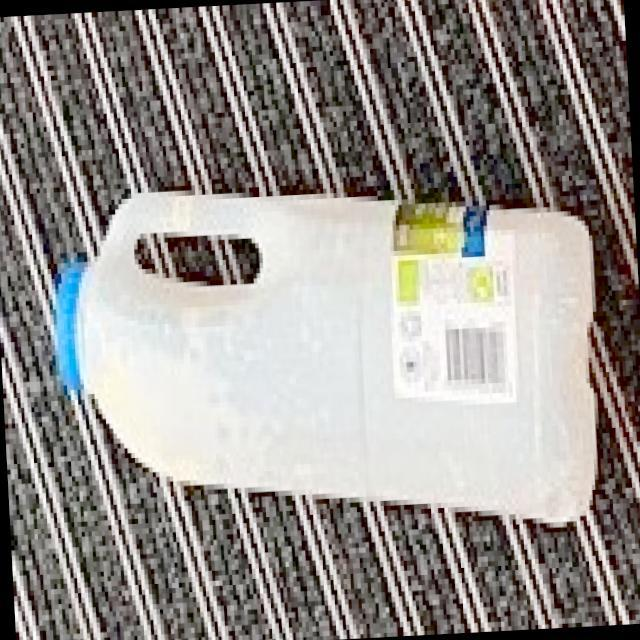HDPE Plastic: (50, 188, 604, 530)
